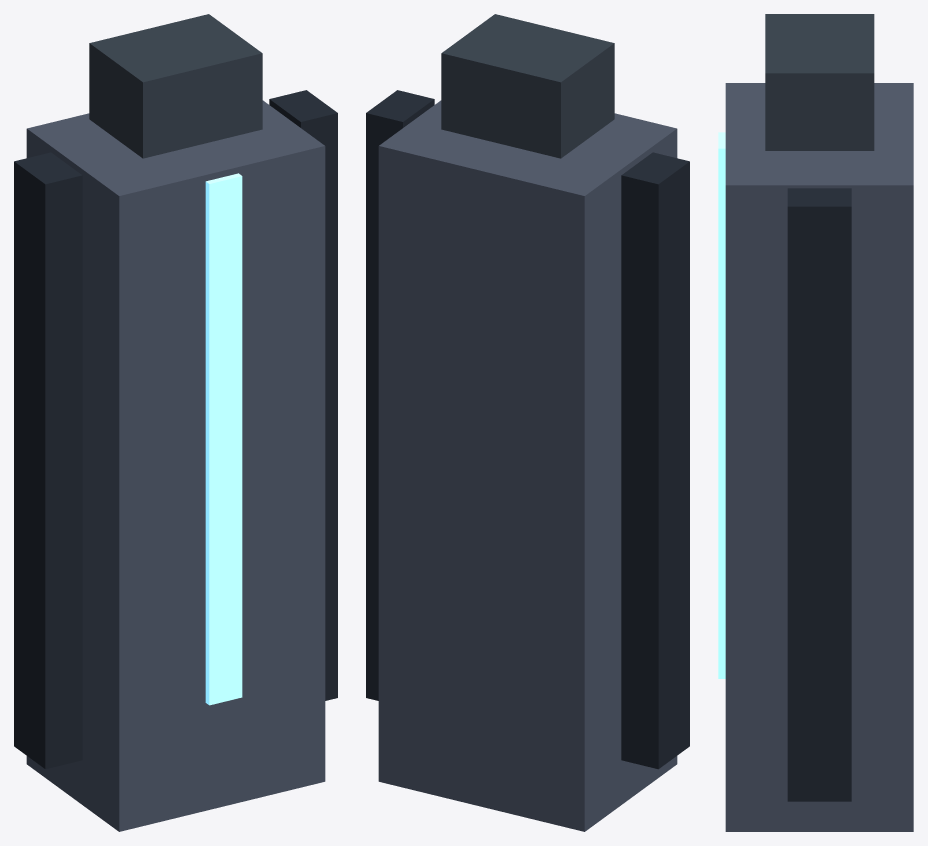
The model's file is solitude-pillar-12.glb.
3 views of the same model, side by side, from view 1: azimuth 30°, elevation 25°; view 2: azimuth 150°, elevation 25°; view 3: azimuth 270°, elevation 25° (orthographic).
Visible parts, largest first — view 1: Solitude Pillar 12; view 2: Solitude Pillar 12; view 3: Solitude Pillar 12.
Part boxes in pixels (x1,y1,x2,y2): Solitude Pillar 12: (14,14,337,831); Solitude Pillar 12: (366,14,689,831); Solitude Pillar 12: (718,14,913,831).
Size of the model in its own units: 1.97 by 4.67 by 1.12.
